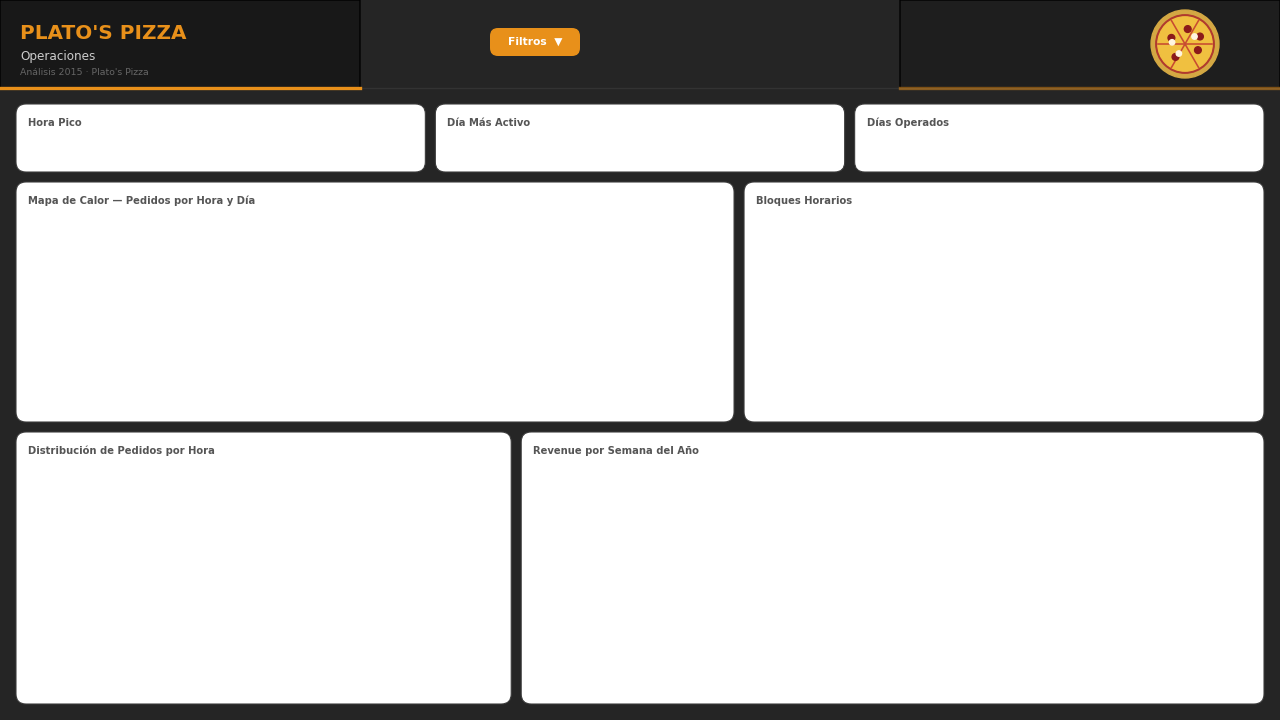

The dashboard page shown, as its layout file describes it:
{"tool":"powerbi","page":{"name":"Operaciones","canvas":[1280,720],"ordinal":1},"visuals":[{"type":"textbox","box":[23.7,126.4,396,33.4],"z":0},{"type":"textbox","box":[441.7,126.4,396,33.4],"z":1000},{"type":"cardVisual","fields":{"Data":["pizza_features.Días Operados"]},"box":[858.7,104.5,396,69.4],"z":2000},{"type":"pivotTable","fields":{"Rows":["pizza_features.day_name_es"],"Columns":["pizza_features.hour"],"Values":["Count(pizza_features.order_id)"]},"box":[80.8,205.5,546.1,213.4],"z":3000},{"type":"barChart","fields":{"Category":["pizza_features.time_block"],"Y":["Count(pizza_features.order_id)"]},"box":[742.8,186.1,520.7,230],"z":4000},{"type":"areaChart","fields":{"Category":["agg_hourly.hour"],"Y":["Sum(agg_hourly.orders)"]},"box":[21.1,458.3,484.7,241.5],"z":5000},{"type":"lineChart","fields":{"Category":["agg_weekly.week"],"Y":["Sum(agg_weekly.revenue)"]},"box":[524.2,455.7,739.3,244.1],"z":6000},{"type":"slicer","fields":{"Values":["pizza_features.month_name"]},"box":[719.1,14,172.1,61.5],"z":6001},{"type":"slicer","fields":{"Values":["pizza_features.category"]},"box":[585.7,14,133.5,61.5],"z":6002},{"type":"slicer","fields":{"Values":["pizza_features.day_name"]},"box":[917.6,14,172.1,61.5],"z":6003}]}

Visuals, with their boxes in screenshot pixels (x1, y1, x2, y2), scaled from the page's 1280x720 canvas onto the 1280x720 screenshot:
textbox: <region>24, 126, 420, 160</region>
textbox: <region>442, 126, 838, 160</region>
cardVisual - pizza_features.Días Operados: <region>859, 104, 1255, 174</region>
pivotTable - pizza_features.day_name_es x pizza_features.hour: <region>81, 206, 627, 419</region>
barChart - pizza_features.time_block x Count(pizza_features.order_id): <region>743, 186, 1264, 416</region>
areaChart - agg_hourly.hour x Sum(agg_hourly.orders): <region>21, 458, 506, 700</region>
lineChart - agg_weekly.week x Sum(agg_weekly.revenue): <region>524, 456, 1264, 700</region>
slicer - pizza_features.month_name: <region>719, 14, 891, 76</region>
slicer - pizza_features.category: <region>586, 14, 719, 76</region>
slicer - pizza_features.day_name: <region>918, 14, 1090, 76</region>
